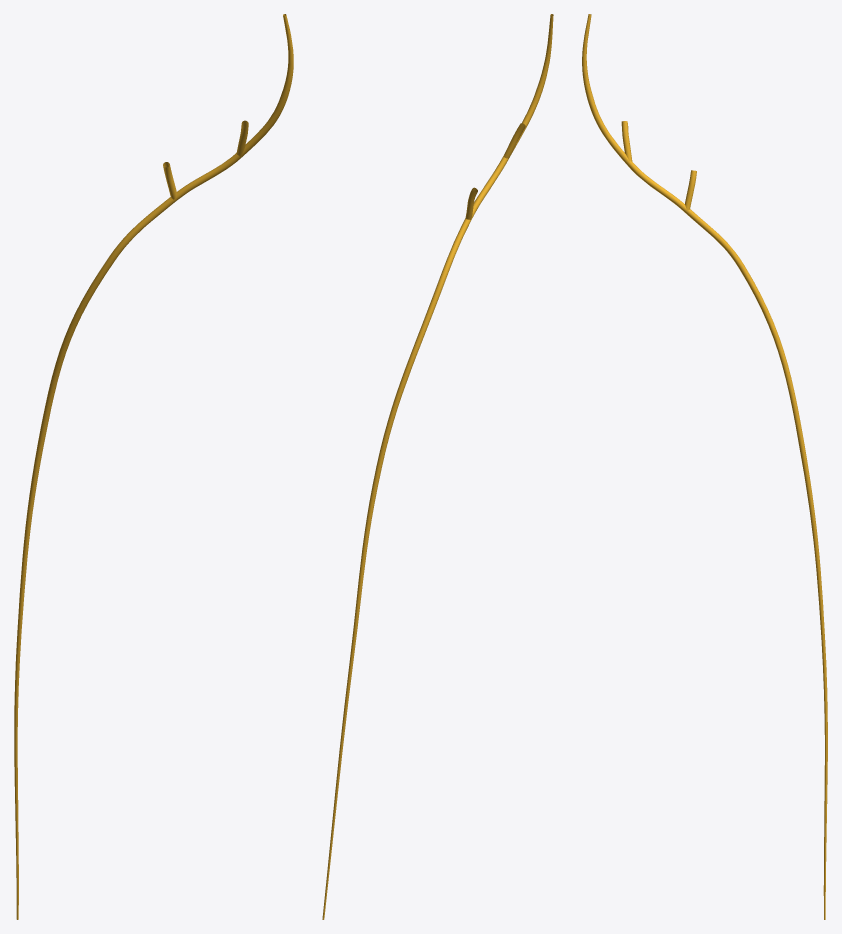
File: nervoso-posterior-femoral-cutaneous-nerve-l.glb
3 renders of one model, left to right at view 1: azimuth 90°, elevation 25°; view 2: azimuth 150°, elevation 25°; view 3: azimuth 270°, elevation 25°, orthographic. The views are drawn at different scales.
Parts seen in each view (by area): view 1: Posterior femoral cutaneous nerve.l; view 2: Posterior femoral cutaneous nerve.l; view 3: Posterior femoral cutaneous nerve.l.
Part boxes in pixels (x1,y1,x2,y2): Posterior femoral cutaneous nerve.l: [14, 14, 293, 919]; Posterior femoral cutaneous nerve.l: [322, 14, 553, 919]; Posterior femoral cutaneous nerve.l: [582, 14, 827, 919].
Size of the model in its own units: 0.0418 by 0.297 by 0.0778.
